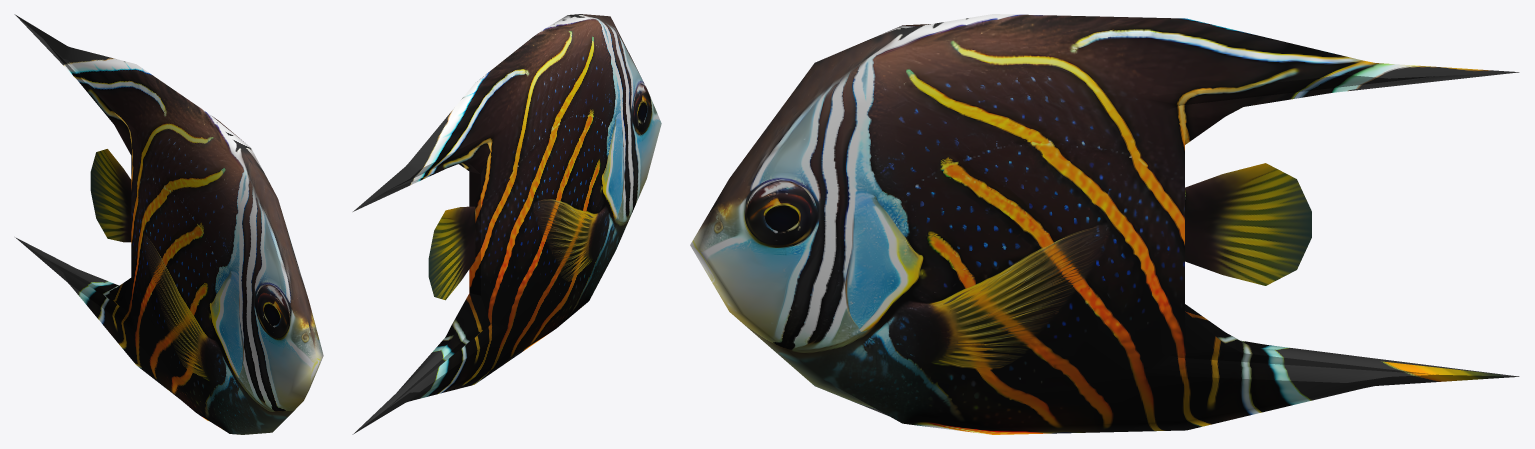
File: Anjo.fbx
3 renders of one model, left to right at view 1: azimuth 30°, elevation 25°; view 2: azimuth 150°, elevation 25°; view 3: azimuth 270°, elevation 25°, orthographic. The views are drawn at different scales.
Visible parts, largest first — view 1: pCube1; view 2: pCube1; view 3: pCube1.
Boxes of the visible parts, x1,y1,x2,y2 form: pCube1: [14, 14, 323, 434]; pCube1: [352, 14, 661, 434]; pCube1: [690, 14, 1519, 434].
Bounding box in the file's own units: 26.35 × 134 × 240.
